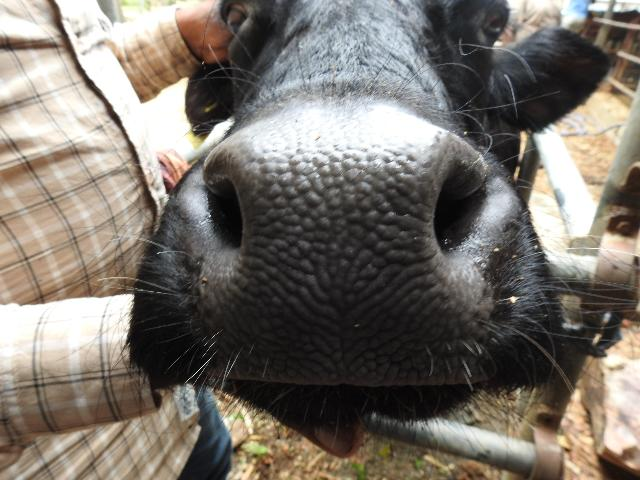Muzzle: (249, 138, 433, 380)
